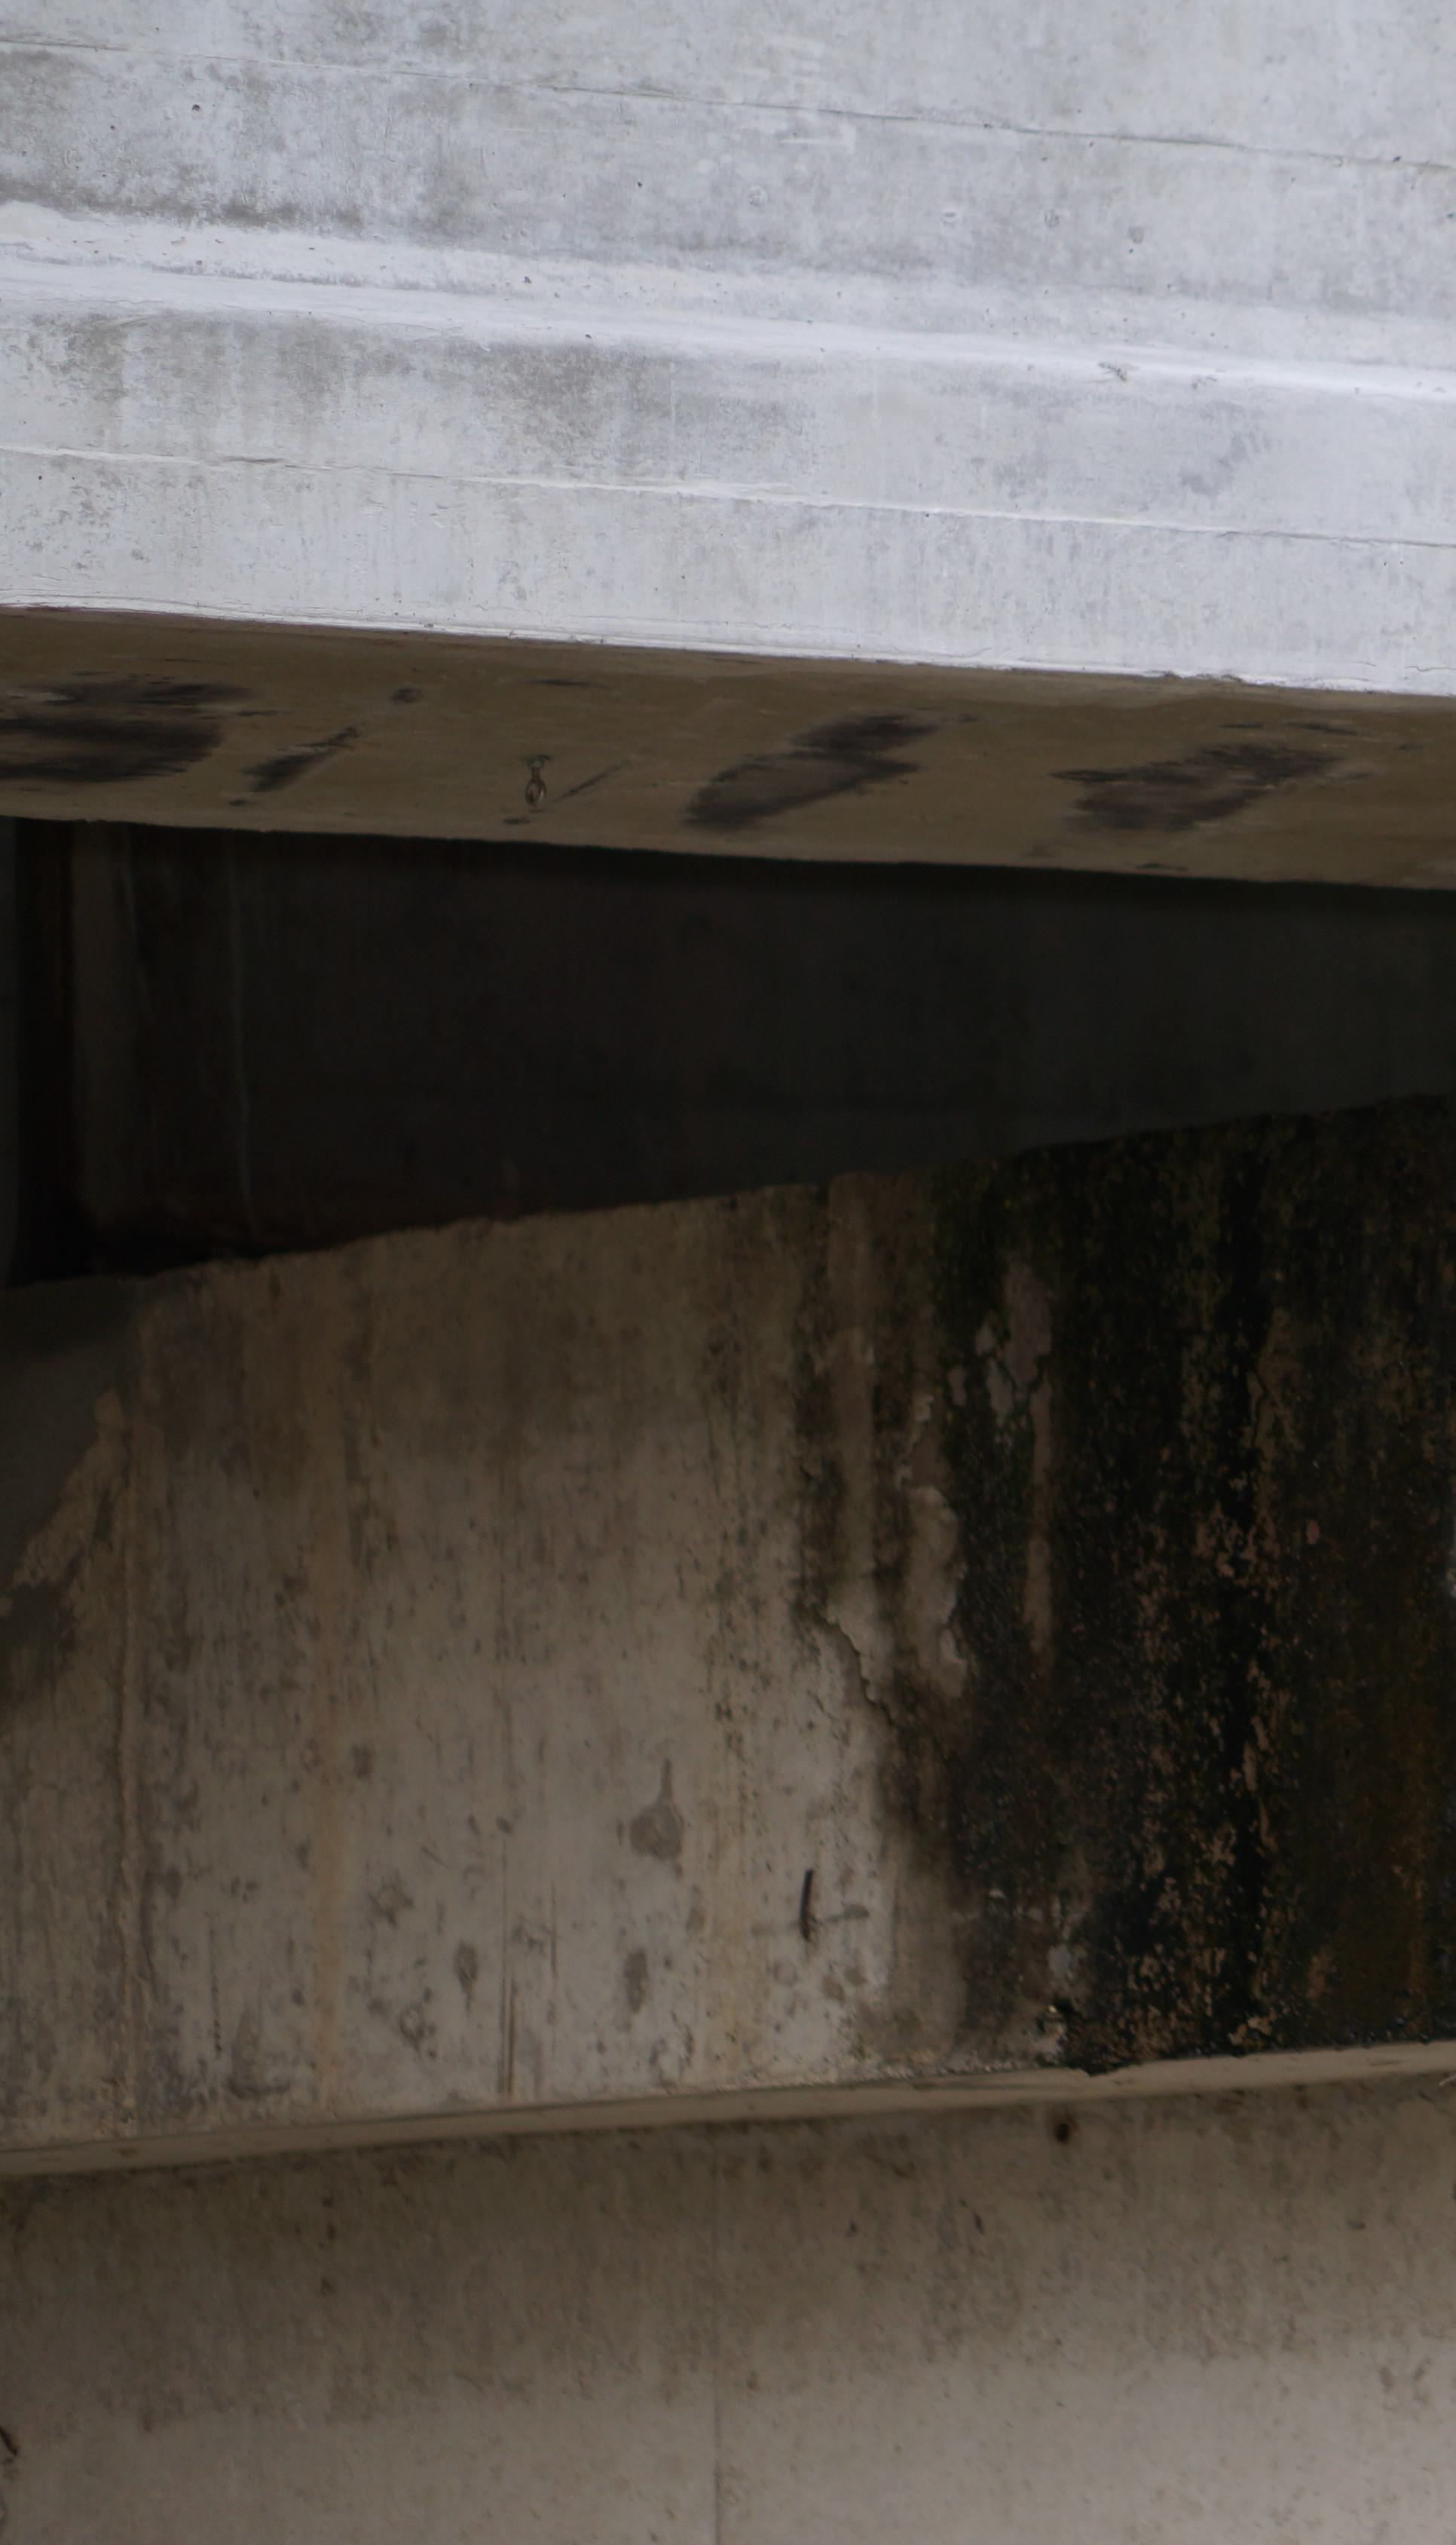Corrosion: (690, 1080, 1456, 2077), (682, 713, 940, 832), (0, 669, 257, 783), (1045, 739, 1344, 834), (227, 724, 358, 809), (390, 685, 418, 703)
Exposed reinforcement: (502, 760, 624, 827), (1286, 722, 1358, 736), (1134, 862, 1189, 872), (526, 680, 593, 687), (1222, 720, 1264, 729)
